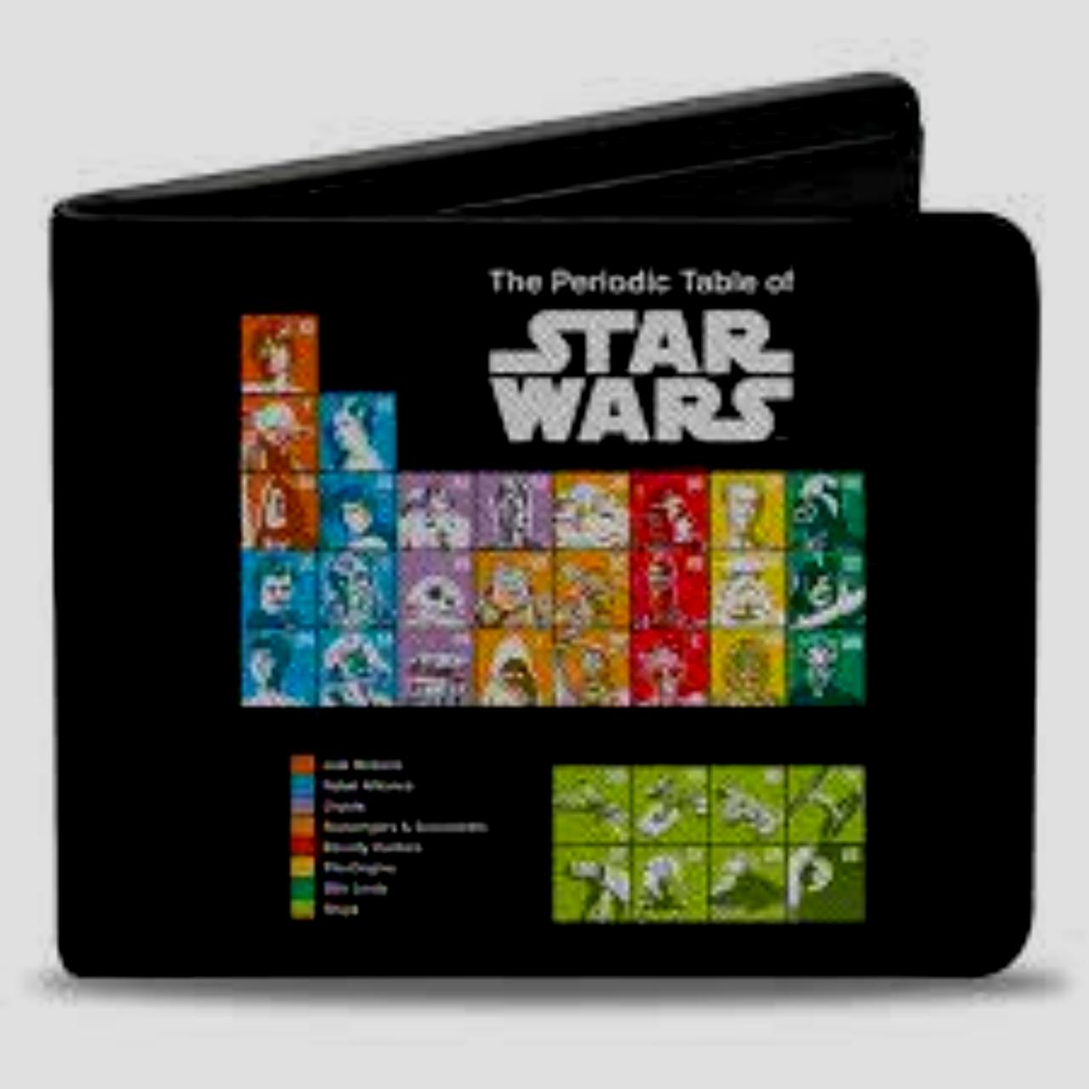wallet: (66, 51, 1047, 1009)
